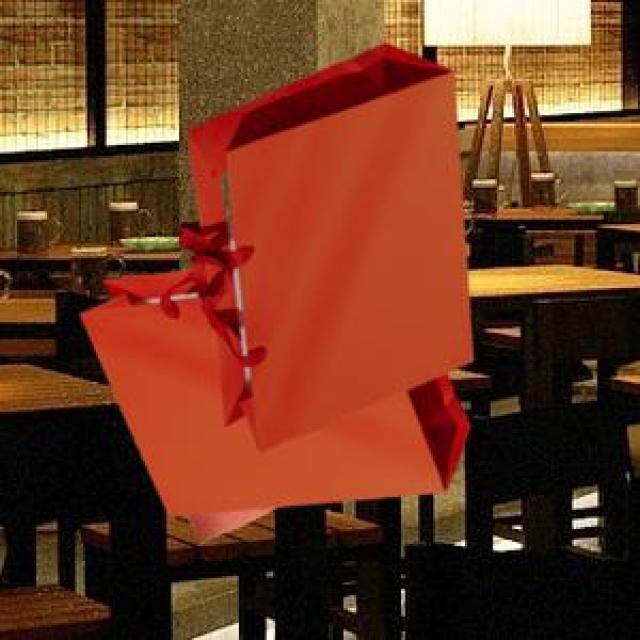paper: (175, 41, 469, 446), (77, 267, 465, 512)
